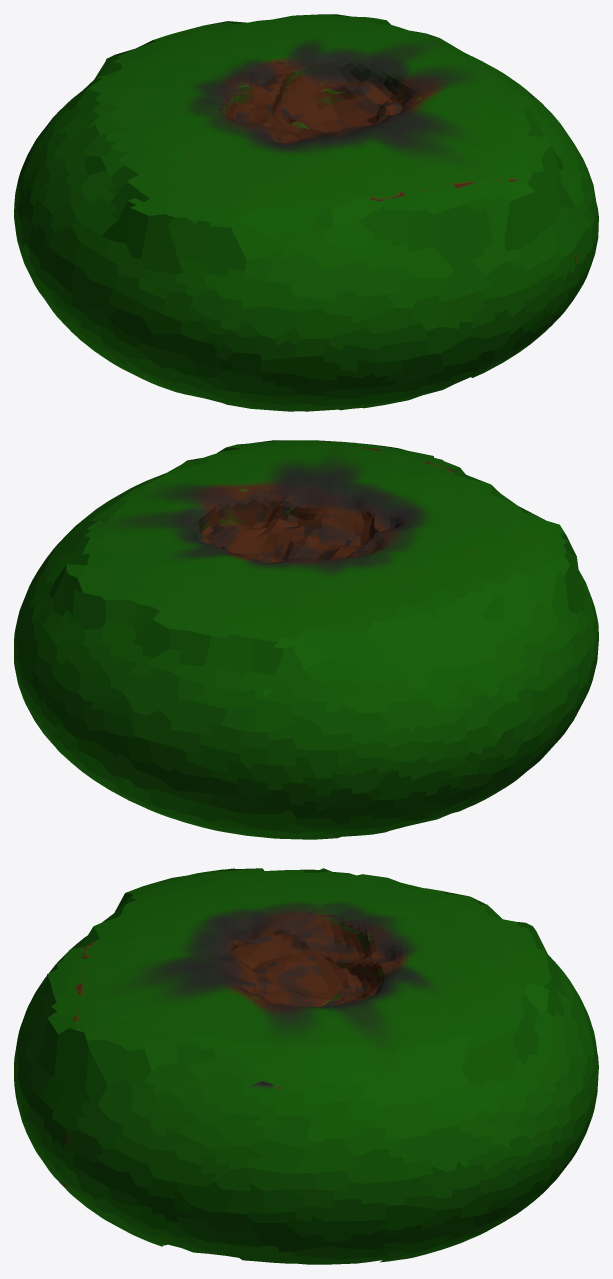
Rendered from Mound.glb.
The picture shows the model from 3 angles, top to bottom: view 1: azimuth 30°, elevation 25°; view 2: azimuth 150°, elevation 25°; view 3: azimuth 270°, elevation 25°; orthographic projection.
Parts seen in each view (by area): view 1: Cube; view 2: Cube; view 3: Cube.
Boxes of the visible parts, x1,y1,x2,y2 form: Cube: (14,14,598,411); Cube: (14,440,598,839); Cube: (14,868,598,1264).
Size of the model in its own units: 41.96 by 19.09 by 41.94.
Materials: 1 (1 with a texture image).
